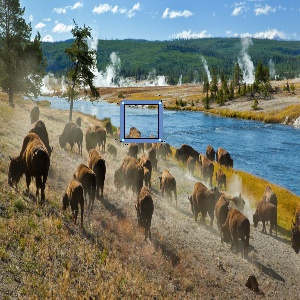square: (119, 99, 164, 144)
